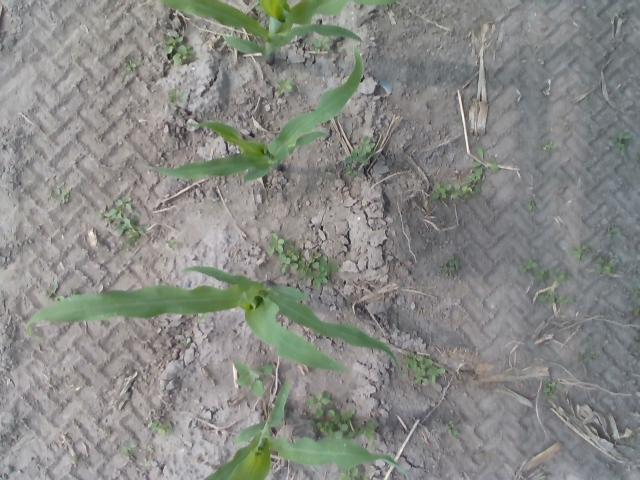Maize: (26, 266, 402, 372), (146, 48, 364, 181), (200, 382, 408, 480), (160, 0, 396, 65)
Weeds: (103, 206, 147, 246), (233, 360, 271, 398), (298, 258, 340, 286), (472, 146, 499, 176), (278, 239, 300, 274), (413, 359, 433, 388), (305, 393, 330, 415), (328, 409, 346, 437), (593, 256, 618, 275), (173, 44, 194, 66), (163, 34, 183, 56), (266, 234, 286, 254), (463, 175, 484, 194), (612, 132, 632, 151), (357, 136, 375, 155), (430, 183, 452, 198), (405, 352, 422, 371), (344, 150, 367, 164), (277, 76, 292, 96), (452, 184, 473, 198), (442, 258, 460, 274), (115, 196, 133, 212), (150, 422, 174, 434), (313, 253, 327, 272), (427, 367, 444, 382), (316, 422, 335, 435), (555, 266, 570, 282), (314, 36, 329, 52), (606, 224, 619, 242), (121, 440, 139, 453), (364, 421, 376, 439), (168, 89, 182, 104), (339, 470, 359, 480), (540, 290, 554, 304), (43, 284, 59, 296), (578, 347, 588, 364), (123, 61, 136, 74), (576, 245, 588, 259), (341, 408, 355, 420), (446, 421, 458, 435), (524, 259, 538, 270), (52, 182, 64, 194), (344, 166, 358, 176), (538, 270, 550, 281), (167, 238, 177, 250), (195, 314, 208, 323), (548, 382, 562, 390), (59, 192, 69, 203), (632, 285, 640, 298), (564, 296, 574, 305), (527, 200, 535, 210), (182, 338, 192, 346), (544, 388, 552, 396), (546, 141, 553, 150), (634, 306, 640, 316), (554, 295, 562, 302), (148, 444, 154, 452), (591, 352, 598, 358), (145, 461, 150, 467)
